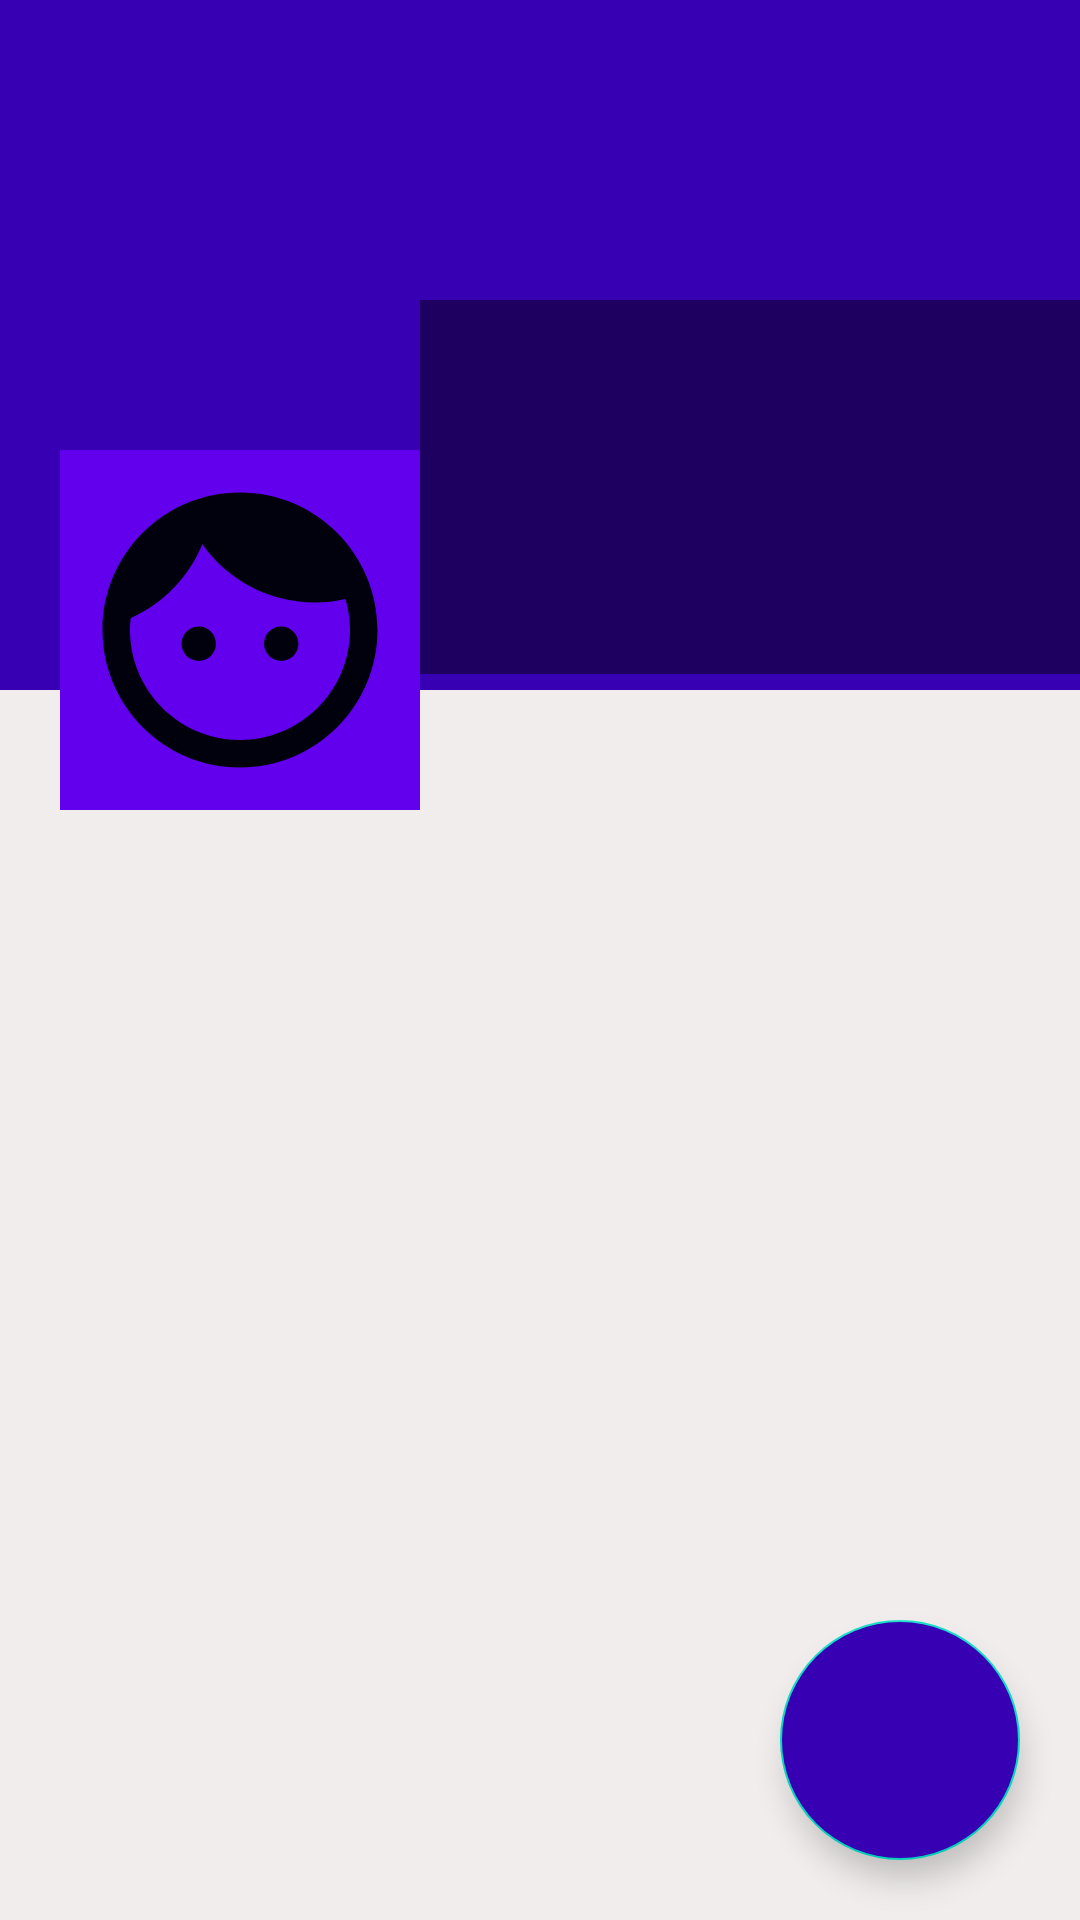

Named icons in this screenshot (1080w x 1920h) and their centers, (x=x, y=y):
face: (x=240, y=630)
